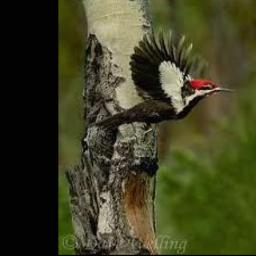Woodpecker: (90, 28, 234, 133)
